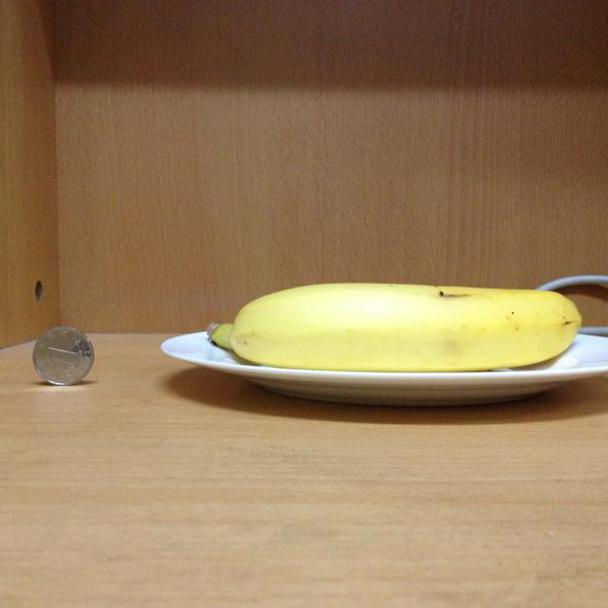banana: (198, 278, 584, 369)
